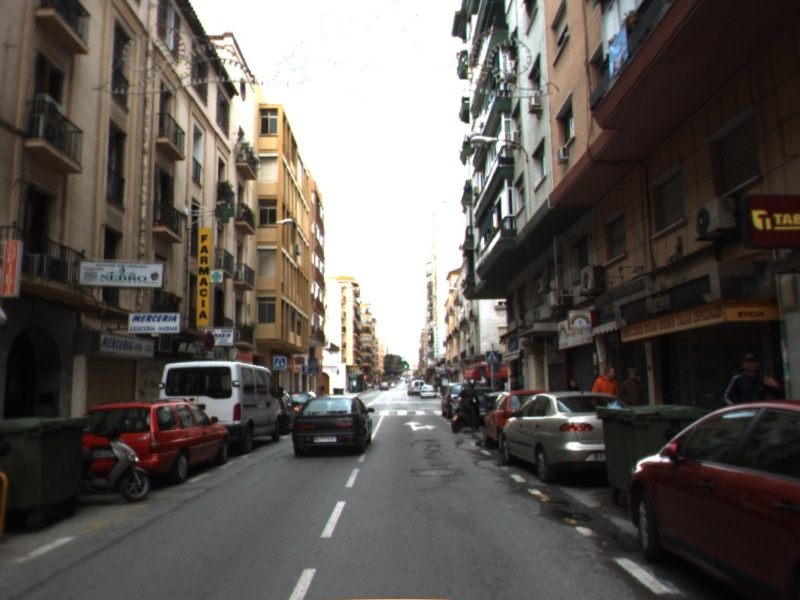STRAIGHT_RIGHT: (402, 419, 439, 433)
